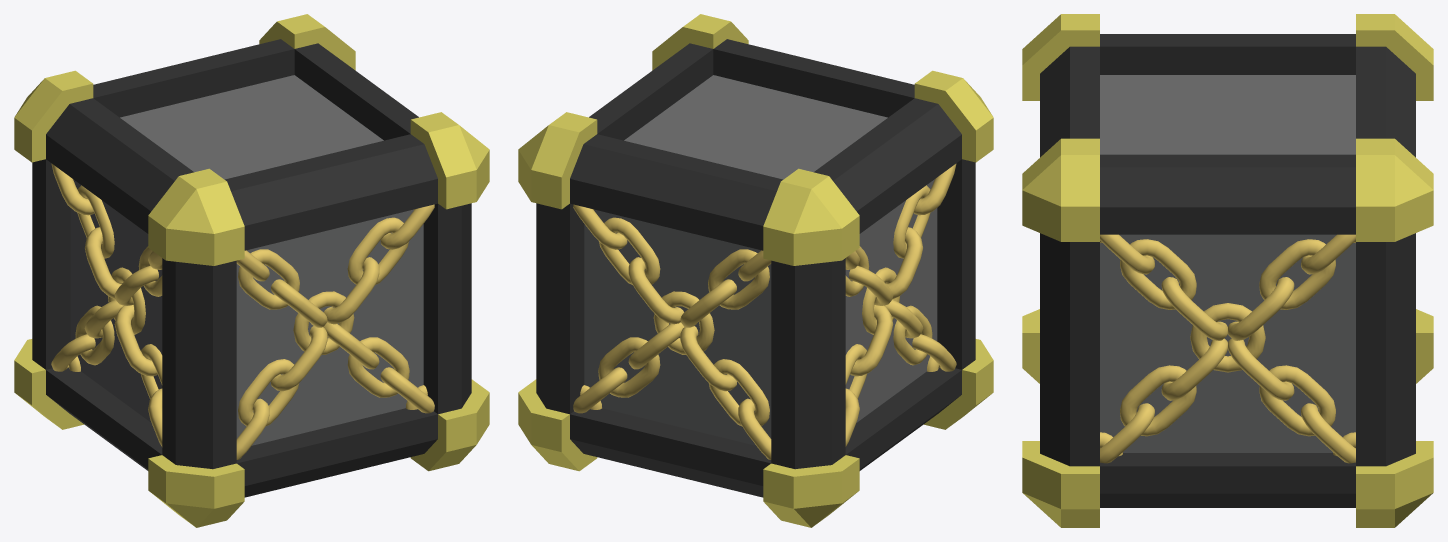
Rendered from a1_lock_block.fbx.
3 renders of one model, left to right at view 1: azimuth 30°, elevation 25°; view 2: azimuth 150°, elevation 25°; view 3: azimuth 270°, elevation 25°, orthographic. The views are drawn at different scales.
Parts seen in each view (by area): view 1: lock_block; view 2: lock_block; view 3: lock_block.
Boxes of the visible parts, x1,y1,x2,y2 form: lock_block: (14,14,489,527); lock_block: (518,14,993,527); lock_block: (1022,14,1433,527).
Bounding box in the file's own units: 1.99 × 1.99 × 1.99.
